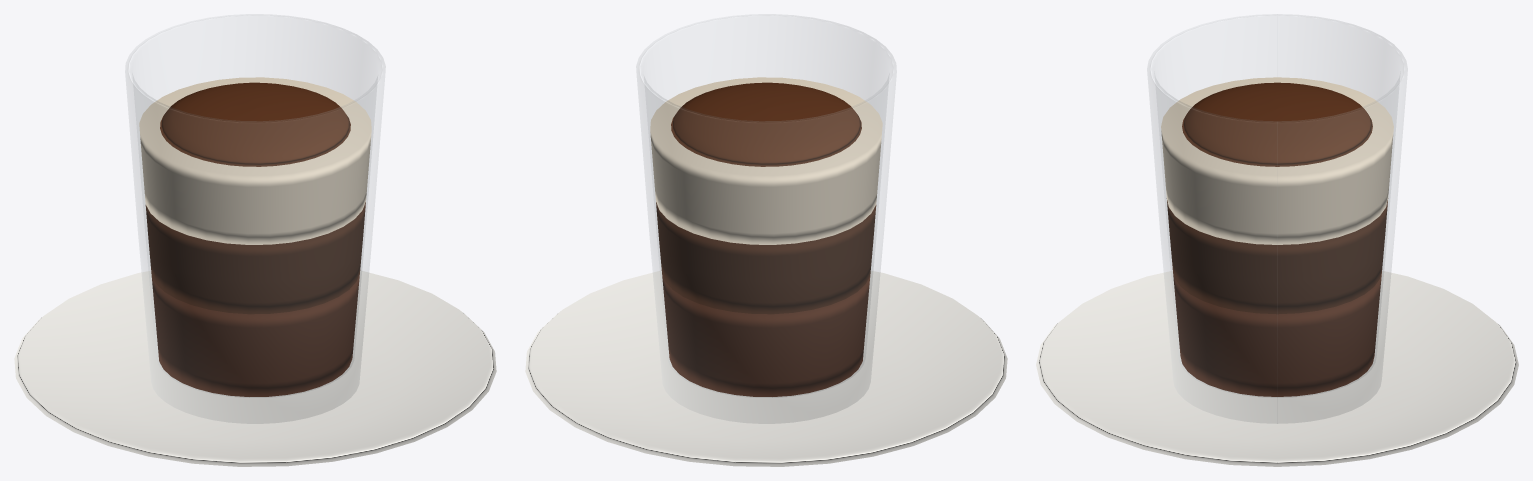
Rendered from alba-marocchino.glb.
3 views of the same model, side by side, from view 1: azimuth 30°, elevation 25°; view 2: azimuth 150°, elevation 25°; view 3: azimuth 270°, elevation 25° (orthographic).
Bounding box in the file's own units: 0.148 × 0.111 × 0.148.
